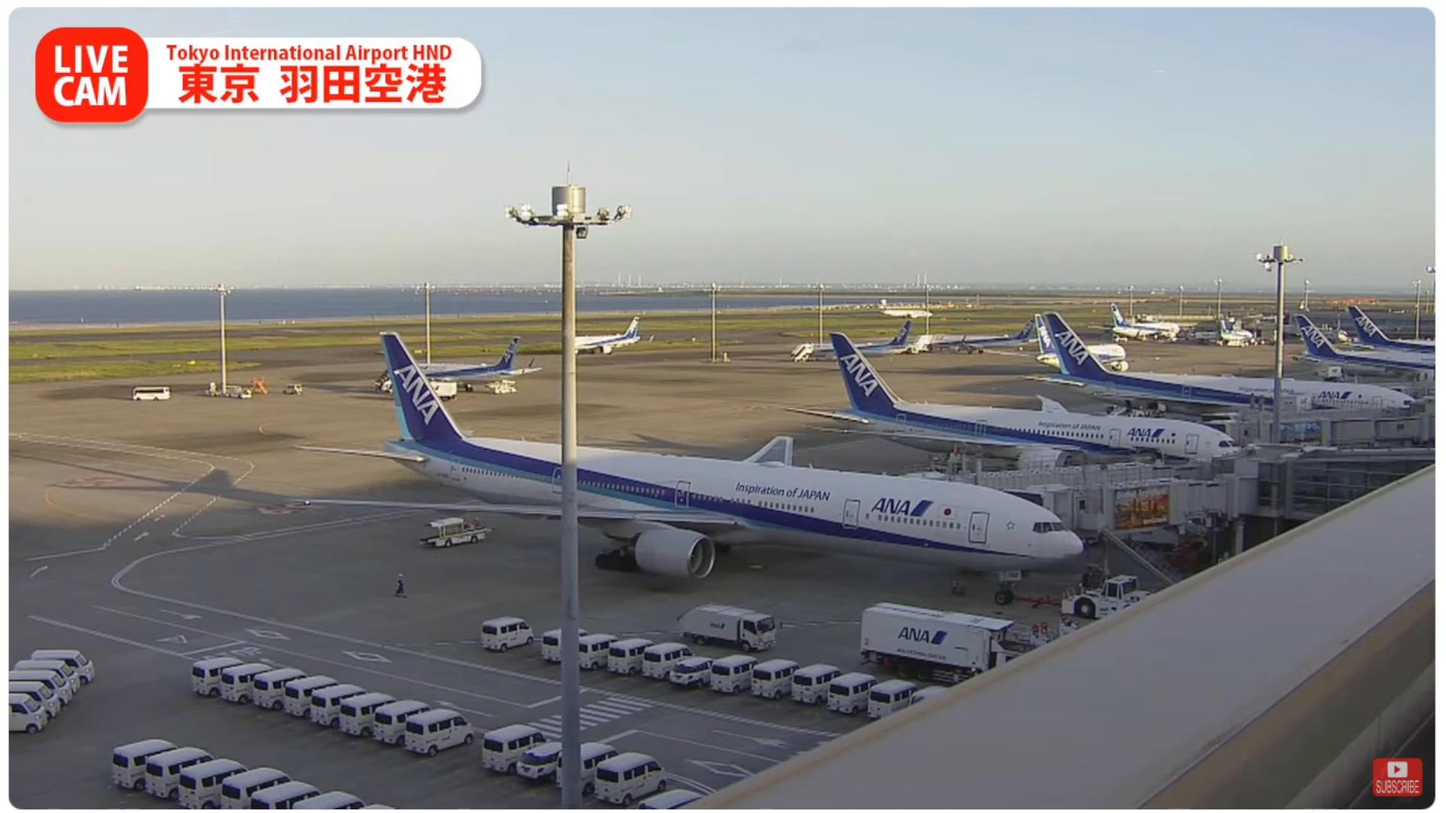APS: (1057, 573, 1156, 617)
Aerobridge: (990, 474, 1217, 523), (903, 458, 1204, 486)
Airplane: (290, 334, 1076, 584)
Baggage truck: (677, 602, 778, 651)
Catering: (864, 601, 1049, 687)
Skyloader: (424, 510, 487, 546)
Window: (1253, 443, 1435, 520)
